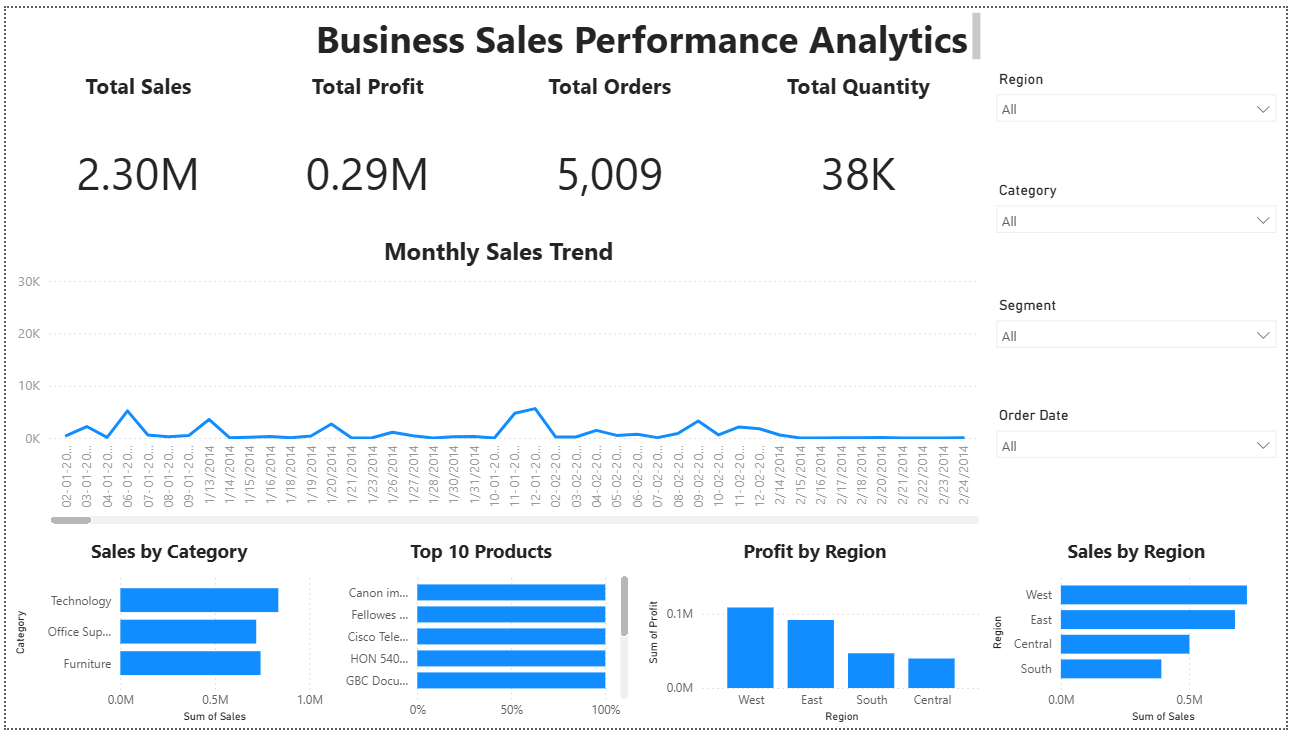

Layout of this report page (visuals, bound fields, positions):
{"tool":"powerbi","page":{"name":"Page 1","canvas":[1280,720],"ordinal":0},"visuals":[{"type":"card","title":"Total Sales","fields":{"Values":["Sum(Sample - Superstore.Sales)"]},"box":[3.8,62.5,257.5,172.5],"z":0},{"type":"card","title":"Total Orders","fields":{"Values":["Count(Sample - Superstore.Order ID)"]},"box":[475,62.5,257.5,172.5],"z":1000},{"type":"card","title":"Total Quantity","fields":{"Values":["Sum(Sample - Superstore.Quantity)"]},"box":[723.8,62.5,257.5,172.5],"z":2000},{"type":"card","title":"Total Profit","fields":{"Values":["Sum(Sample - Superstore.Profit)"]},"box":[232.5,62.5,258.8,172.5],"z":3000},{"type":"textbox","box":[300.5,0,679.2,57.6],"z":4000},{"type":"lineChart","title":"Monthly Sales Trend","fields":{"Category":["Sample - Superstore.Month Year"],"Y":["Sum(Sample - Superstore.Sales)"]},"box":[6.2,226.2,972.5,295],"z":5000},{"type":"clusteredBarChart","title":"Sales by Category","fields":{"Category":["Sample - Superstore.Category"],"Y":["Sum(Sample - Superstore.Sales)"]},"box":[3.8,530,318.8,190],"z":6000},{"type":"hundredPercentStackedBarChart","title":"Top 10 Products","fields":{"Category":["Sample - Superstore.Product Name"],"Y":["Sum(Sample - Superstore.Sales)"]},"box":[322.5,530,305,190],"z":7000},{"type":"clusteredColumnChart","title":"Profit by Region","fields":{"Category":["Sample - Superstore.Region"],"Y":["Sum(Sample - Superstore.Profit)"]},"box":[637.5,530,342.5,190],"z":8000},{"type":"slicer","fields":{"Values":["Sample - Superstore.Category"]},"box":[980,168.8,300,81.2],"z":9000},{"type":"slicer","fields":{"Values":["Sample - Superstore.Segment"]},"box":[980,283.8,300,110],"z":10000},{"type":"slicer","fields":{"Values":["Sample - Superstore.Order Date"]},"box":[980,393.8,300,110],"z":11000},{"type":"clusteredBarChart","title":"Sales by Region","fields":{"Category":["Sample - Superstore.Region"],"Y":["Sum(Sample - Superstore.Sales)"]},"box":[981,530,298,190],"z":12000},{"type":"slicer","fields":{"Values":["Sample - Superstore.Region"]},"box":[980,57.5,300,81.2],"z":13000}]}

Visuals, with their boxes in screenshot pixels (x1, y1, x2, y2), scaled from the page's 1280x720 canvas onto the 1296x737 screenshot:
"Total Sales" card: l=4, t=64, r=265, b=241
"Total Orders" card: l=481, t=64, r=742, b=241
"Total Quantity" card: l=733, t=64, r=994, b=241
"Total Profit" card: l=235, t=64, r=497, b=241
textbox: l=304, t=0, r=992, b=59
"Monthly Sales Trend" lineChart: l=6, t=232, r=991, b=534
"Sales by Category" clusteredBarChart: l=4, t=543, r=327, b=736
"Top 10 Products" hundredPercentStackedBarChart: l=327, t=543, r=635, b=736
"Profit by Region" clusteredColumnChart: l=645, t=543, r=992, b=736
slicer - Sample - Superstore.Category: l=992, t=173, r=1295, b=256
slicer - Sample - Superstore.Segment: l=992, t=291, r=1295, b=403
slicer - Sample - Superstore.Order Date: l=992, t=403, r=1295, b=516
"Sales by Region" clusteredBarChart: l=993, t=543, r=1295, b=736
slicer - Sample - Superstore.Region: l=992, t=59, r=1295, b=142
